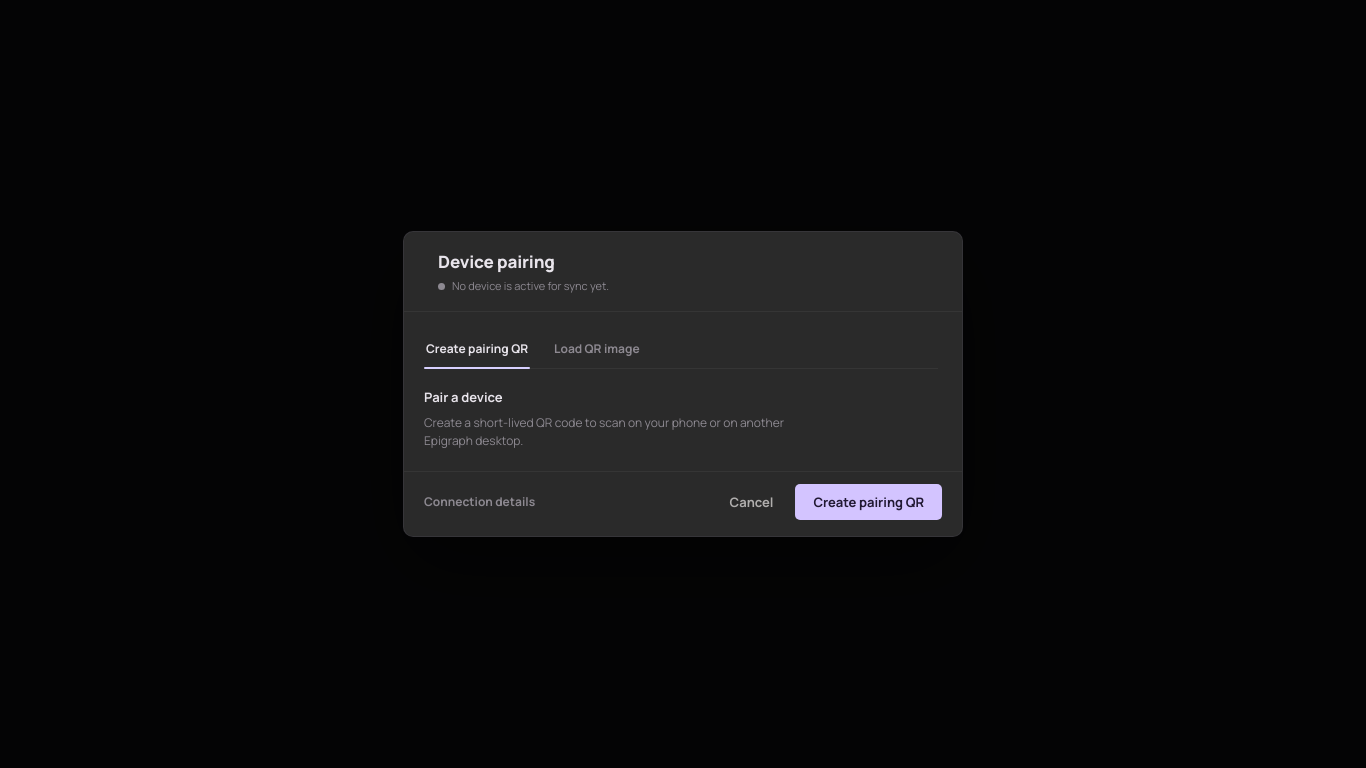
Scenario: SyncdConnectionPanel › refetches the active host after a pairing decision
The image size is (1366, 768).
Click the button with test id "syncd-host-start" at (869,502), box [795,484,942,520]
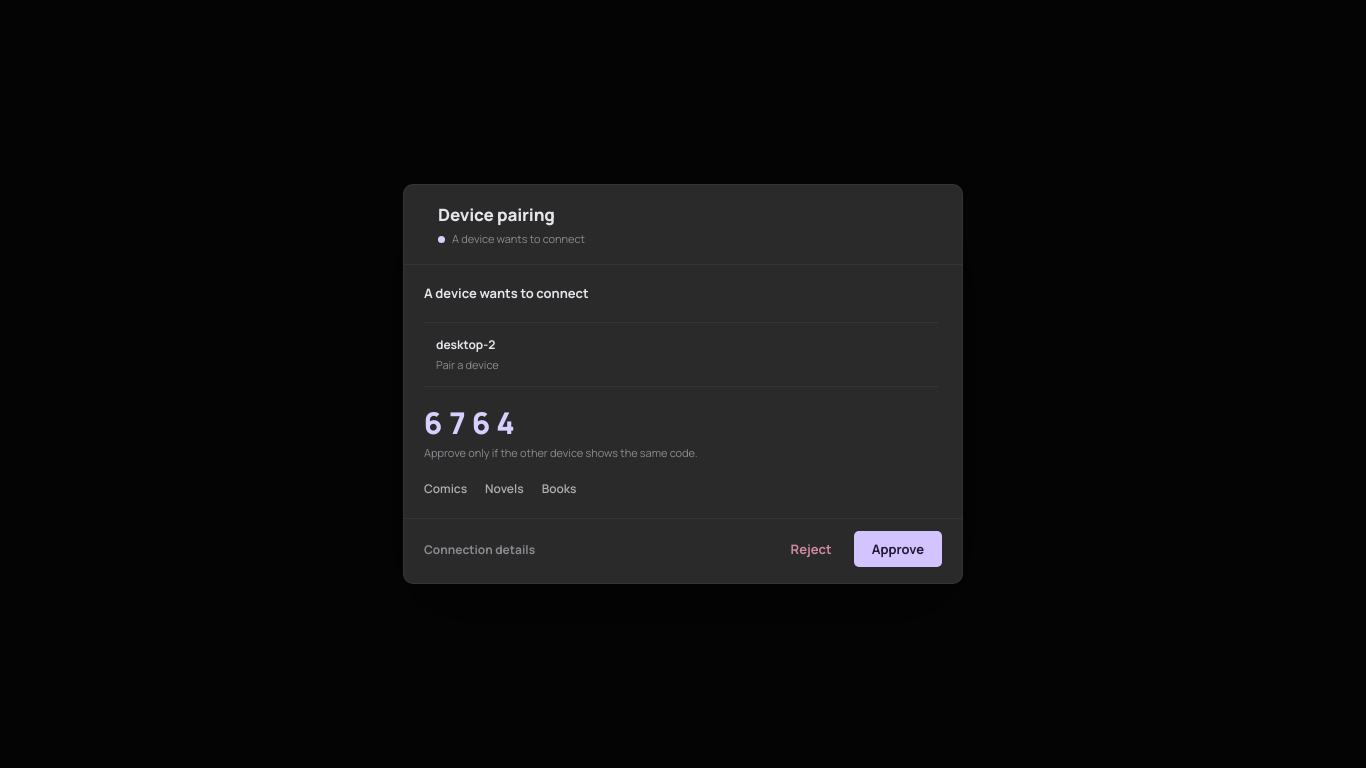
Click the button with test id "syncd-host-approve" at (898,549), box [854,531,942,567]
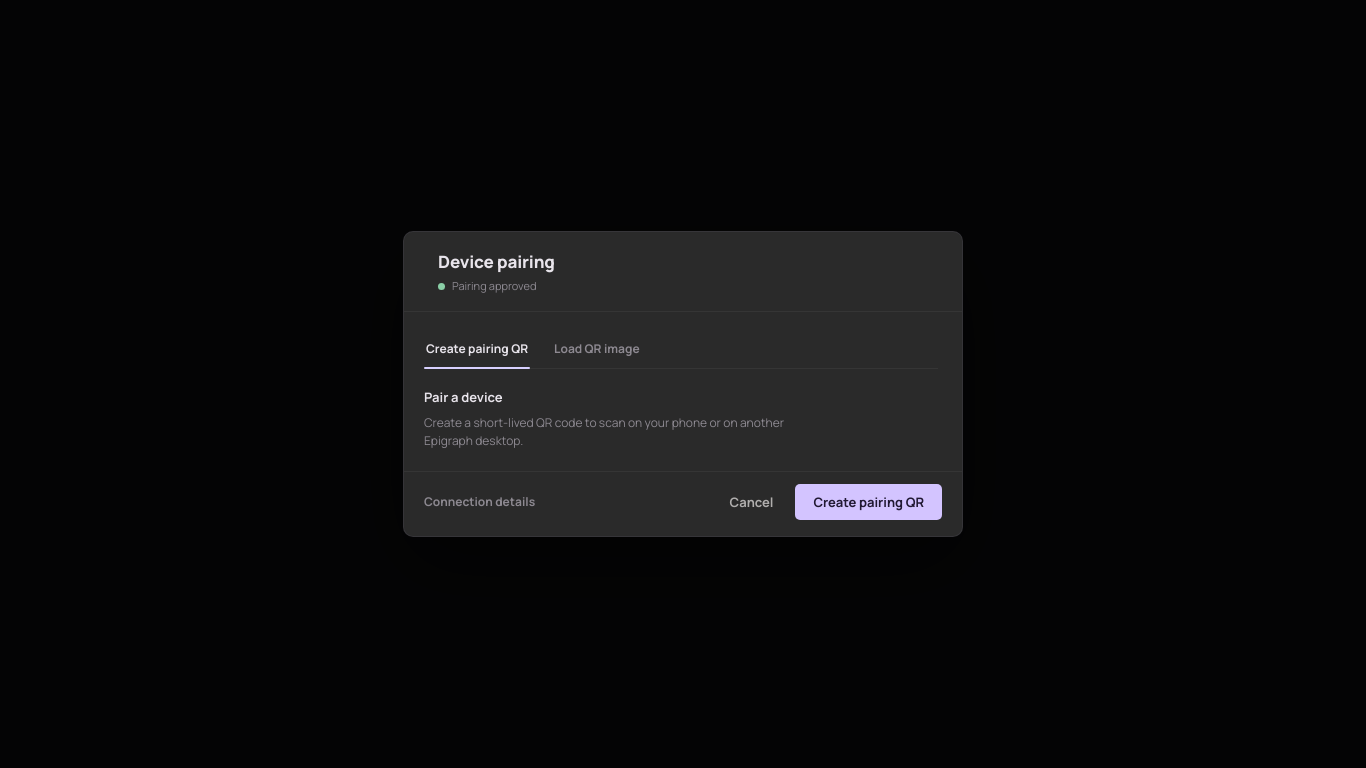
Check: the button with test id "syncd-host-start" is shown, box [795,484,942,520]
